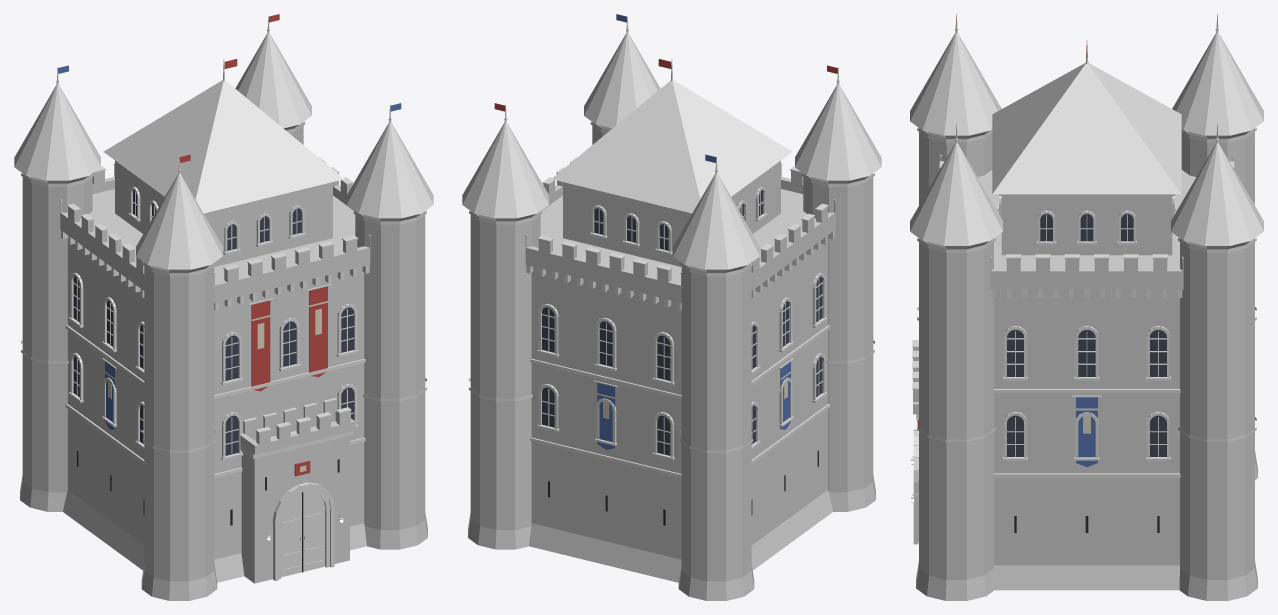
File: castle_keep.glb
3 views of the same model, side by side, from view 1: azimuth 30°, elevation 25°; view 2: azimuth 150°, elevation 25°; view 3: azimuth 270°, elevation 25° (orthographic). The views are drawn at different scales.
Parts seen in each view (by area): view 1: castle_keep; view 2: castle_keep; view 3: castle_keep.
Part boxes in pixels (bbox=[...]): castle_keep: bbox=[14, 14, 433, 600]; castle_keep: bbox=[462, 14, 881, 600]; castle_keep: bbox=[910, 14, 1263, 600].
Size of the model in its own units: 22.79 by 34.7 by 22.79.
